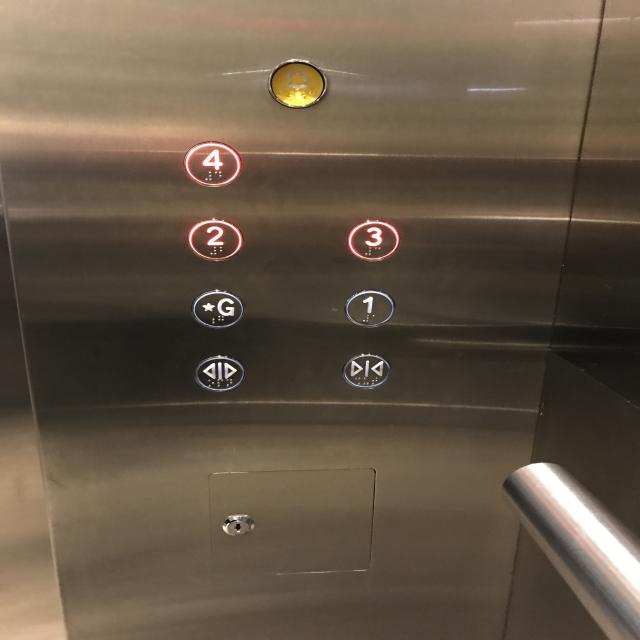1: (342, 288, 396, 328)
2: (186, 218, 244, 262)
3: (345, 218, 401, 262)
4: (182, 140, 243, 188)
alarm: (265, 58, 329, 109)
close: (340, 352, 392, 390)
open: (193, 354, 245, 392)
sG: (190, 288, 243, 328)
